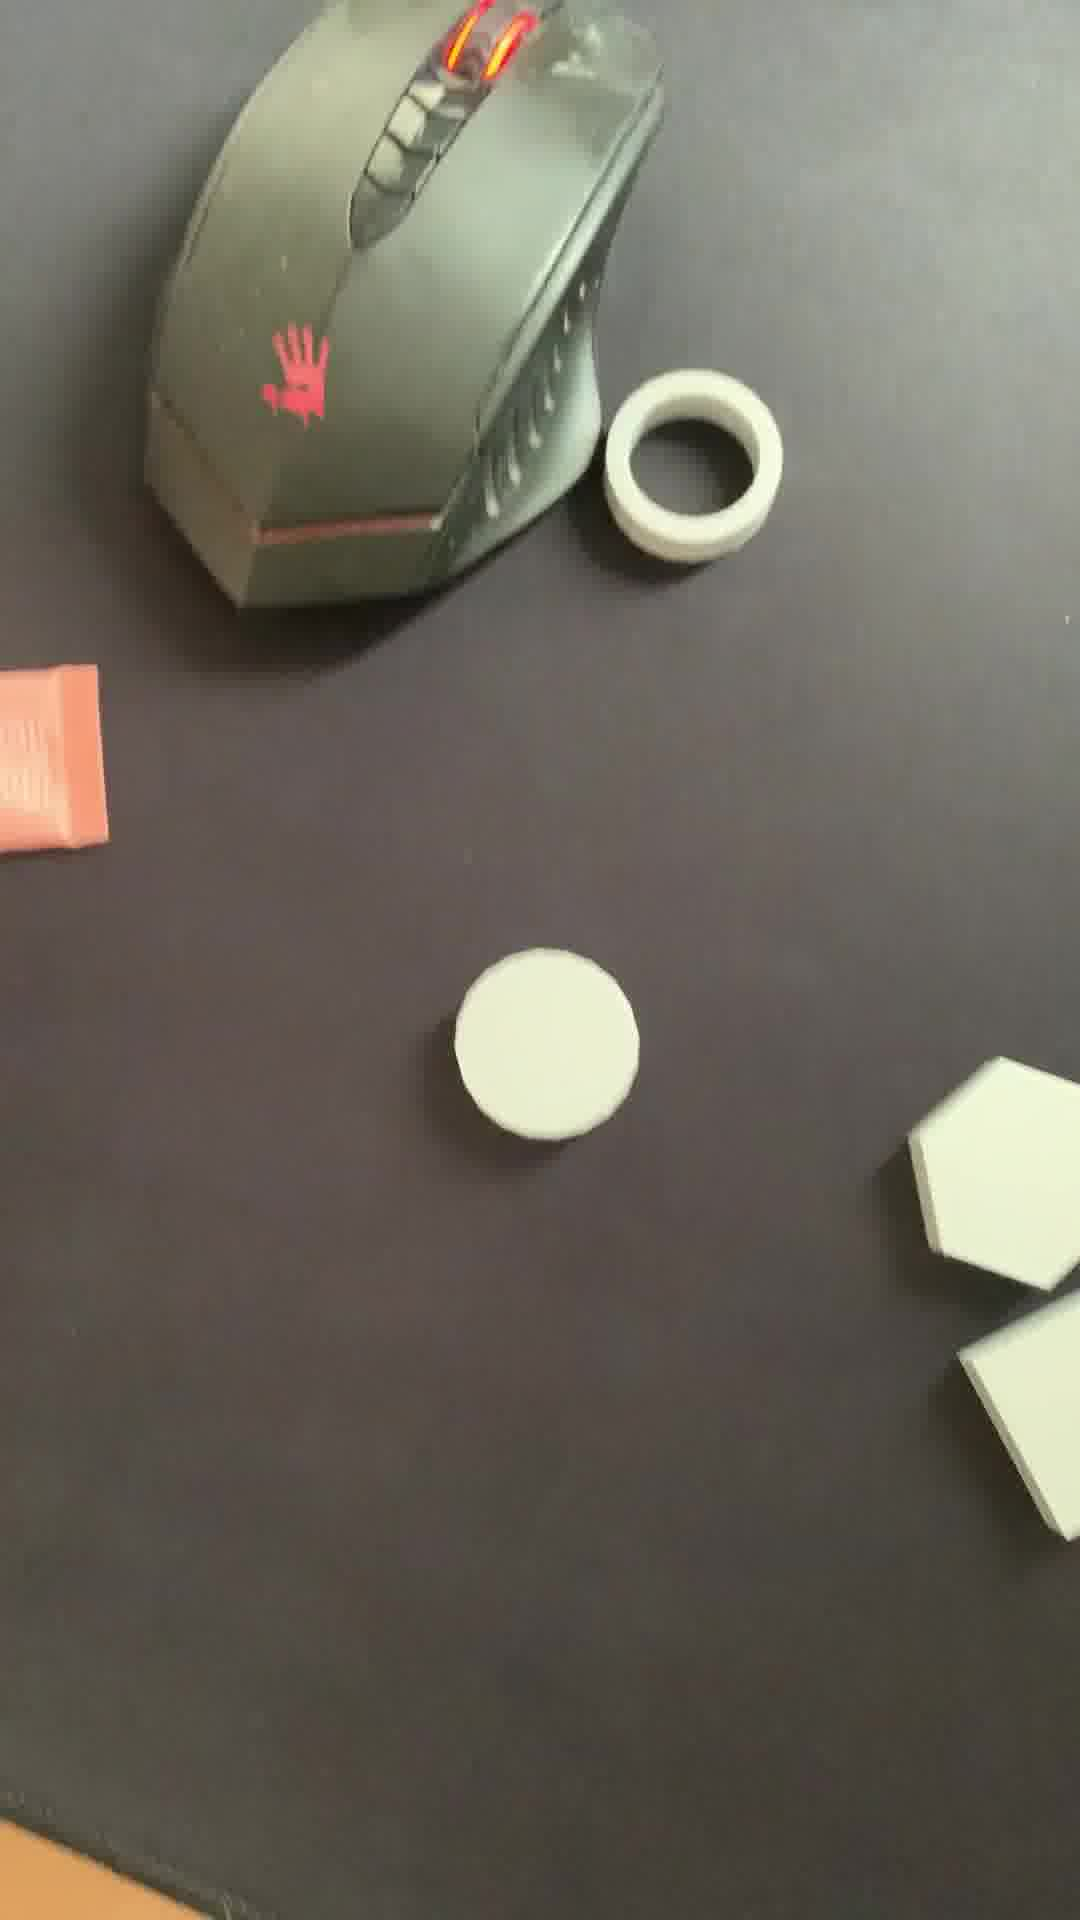Gray circle: (434, 938, 663, 1158)
Gray hexagon: (878, 1055, 1080, 1280)
Gray ring: (588, 373, 800, 575)
Gray square: (957, 1275, 1080, 1575)
